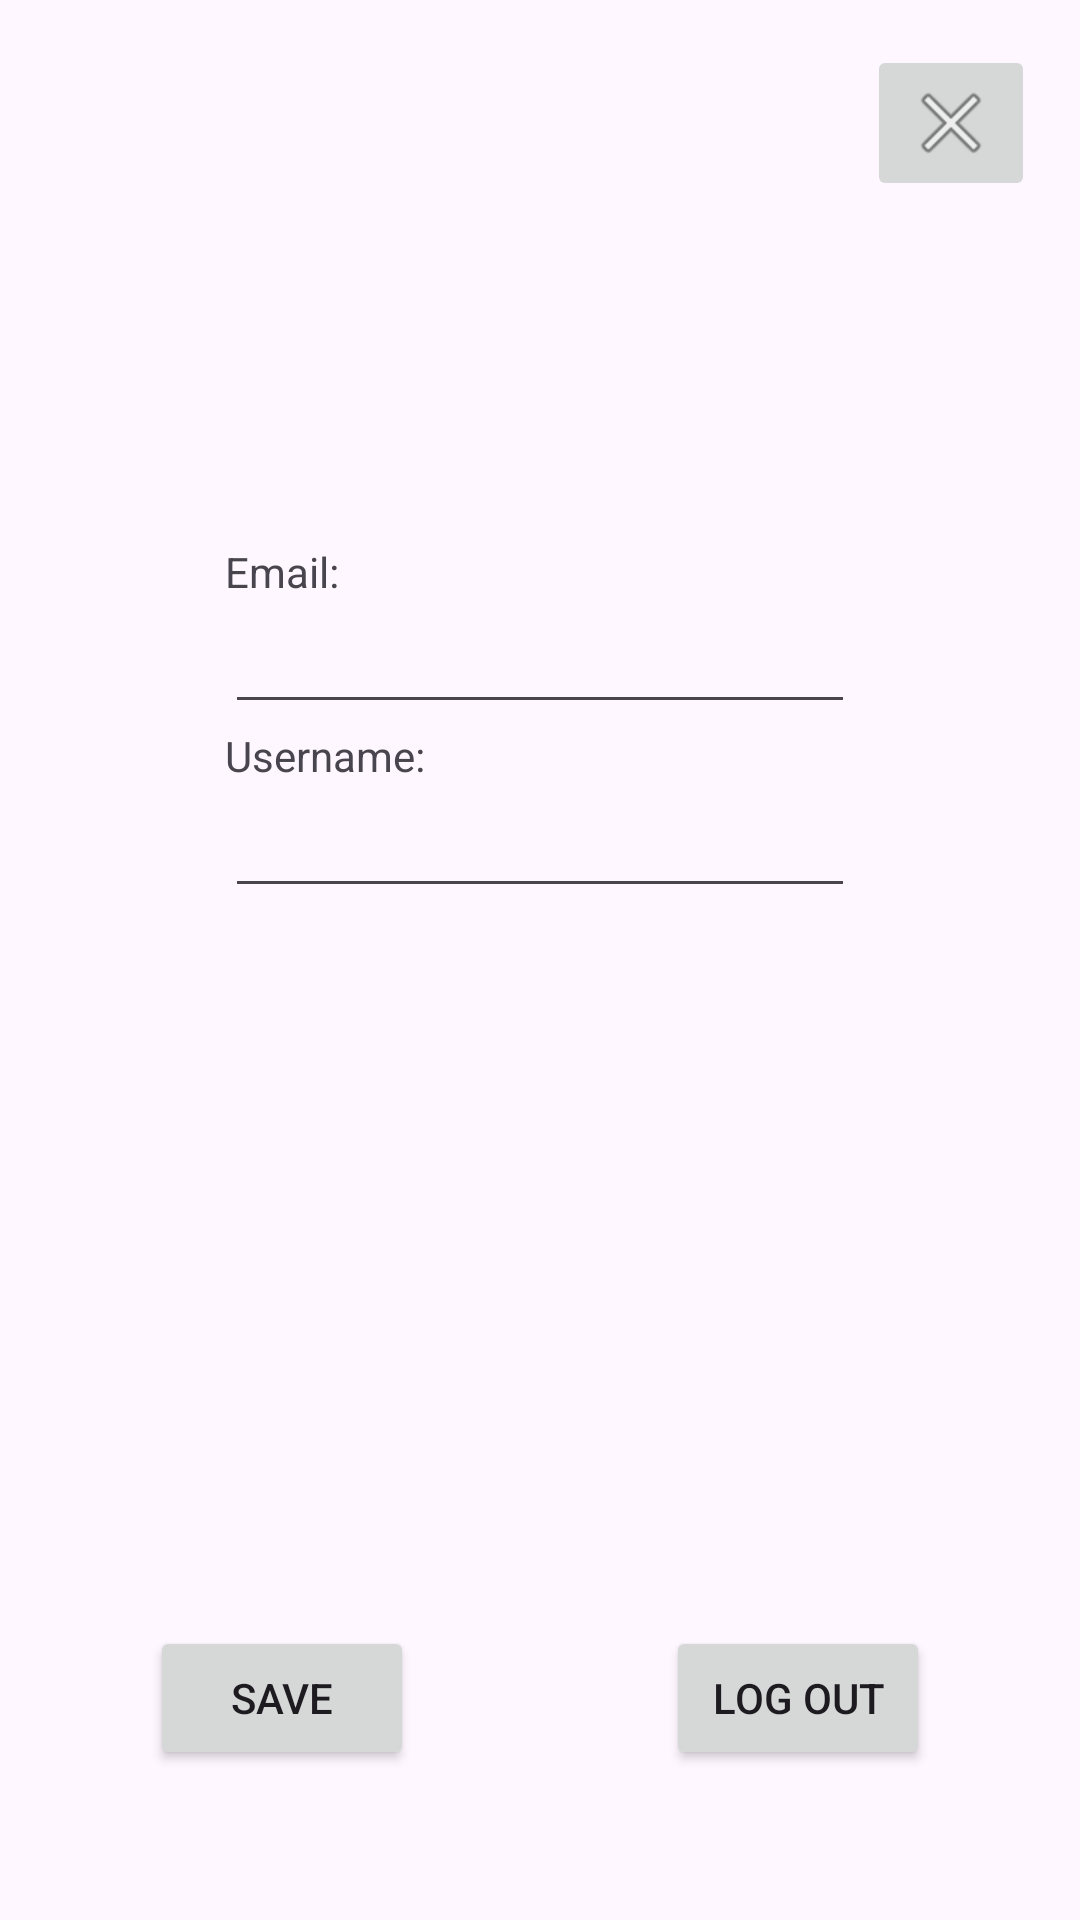

Icons on this 1080x1920 Android screen, each with its box as {"left": x1, "top": y1, "right": x2, "bottom": y2}:
close clear cancel: {"left": 879, "top": 63, "right": 1023, "bottom": 183}
